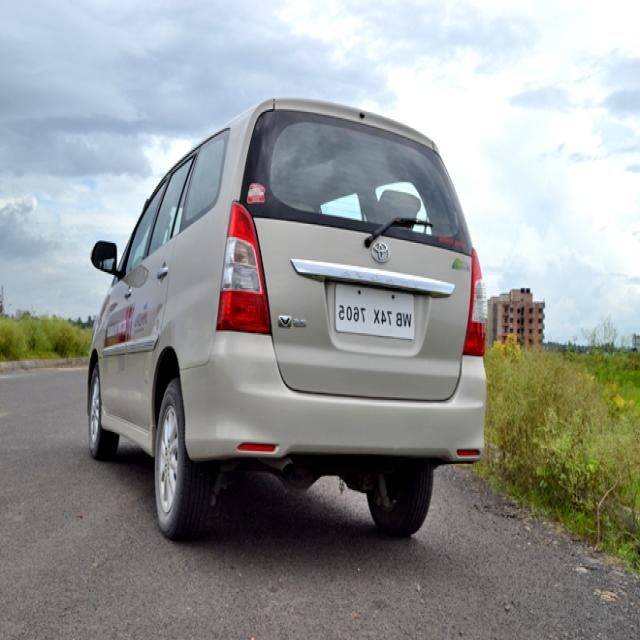number-plate: (314, 290, 434, 345)
